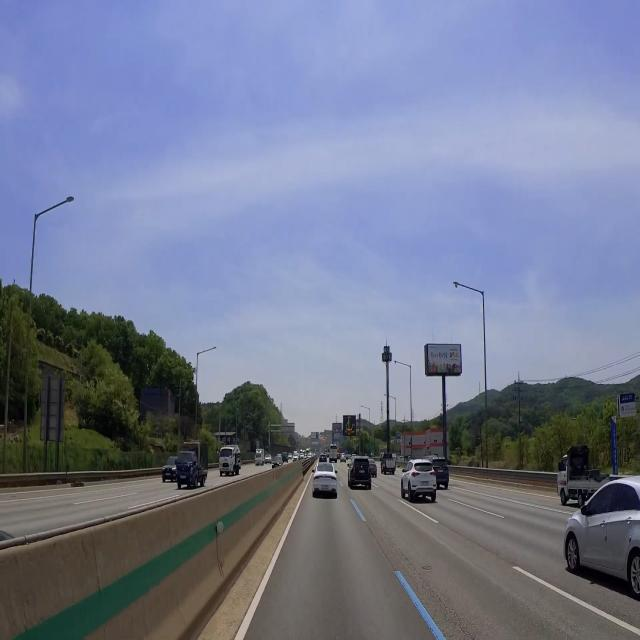car: (419, 477, 432, 493), (319, 481, 331, 498), (357, 467, 368, 479), (437, 466, 445, 482), (221, 463, 231, 474), (163, 470, 172, 482), (178, 474, 189, 483)
